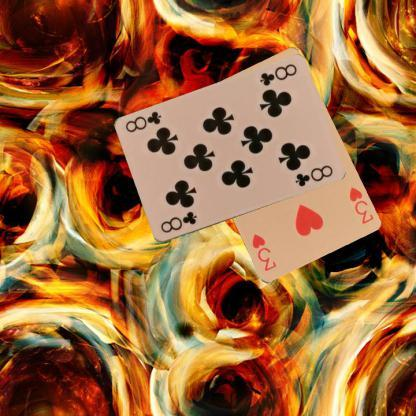3h: (346, 184, 375, 226)
8c: (256, 61, 298, 88), (158, 209, 198, 235)
